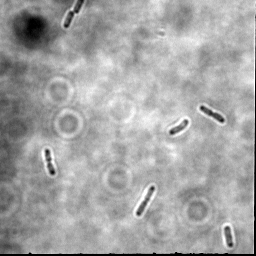Dividing: (134, 184, 157, 217), (62, 1, 84, 29), (197, 104, 226, 124), (43, 147, 57, 176)
Rod: (168, 117, 190, 136), (223, 223, 235, 248)
